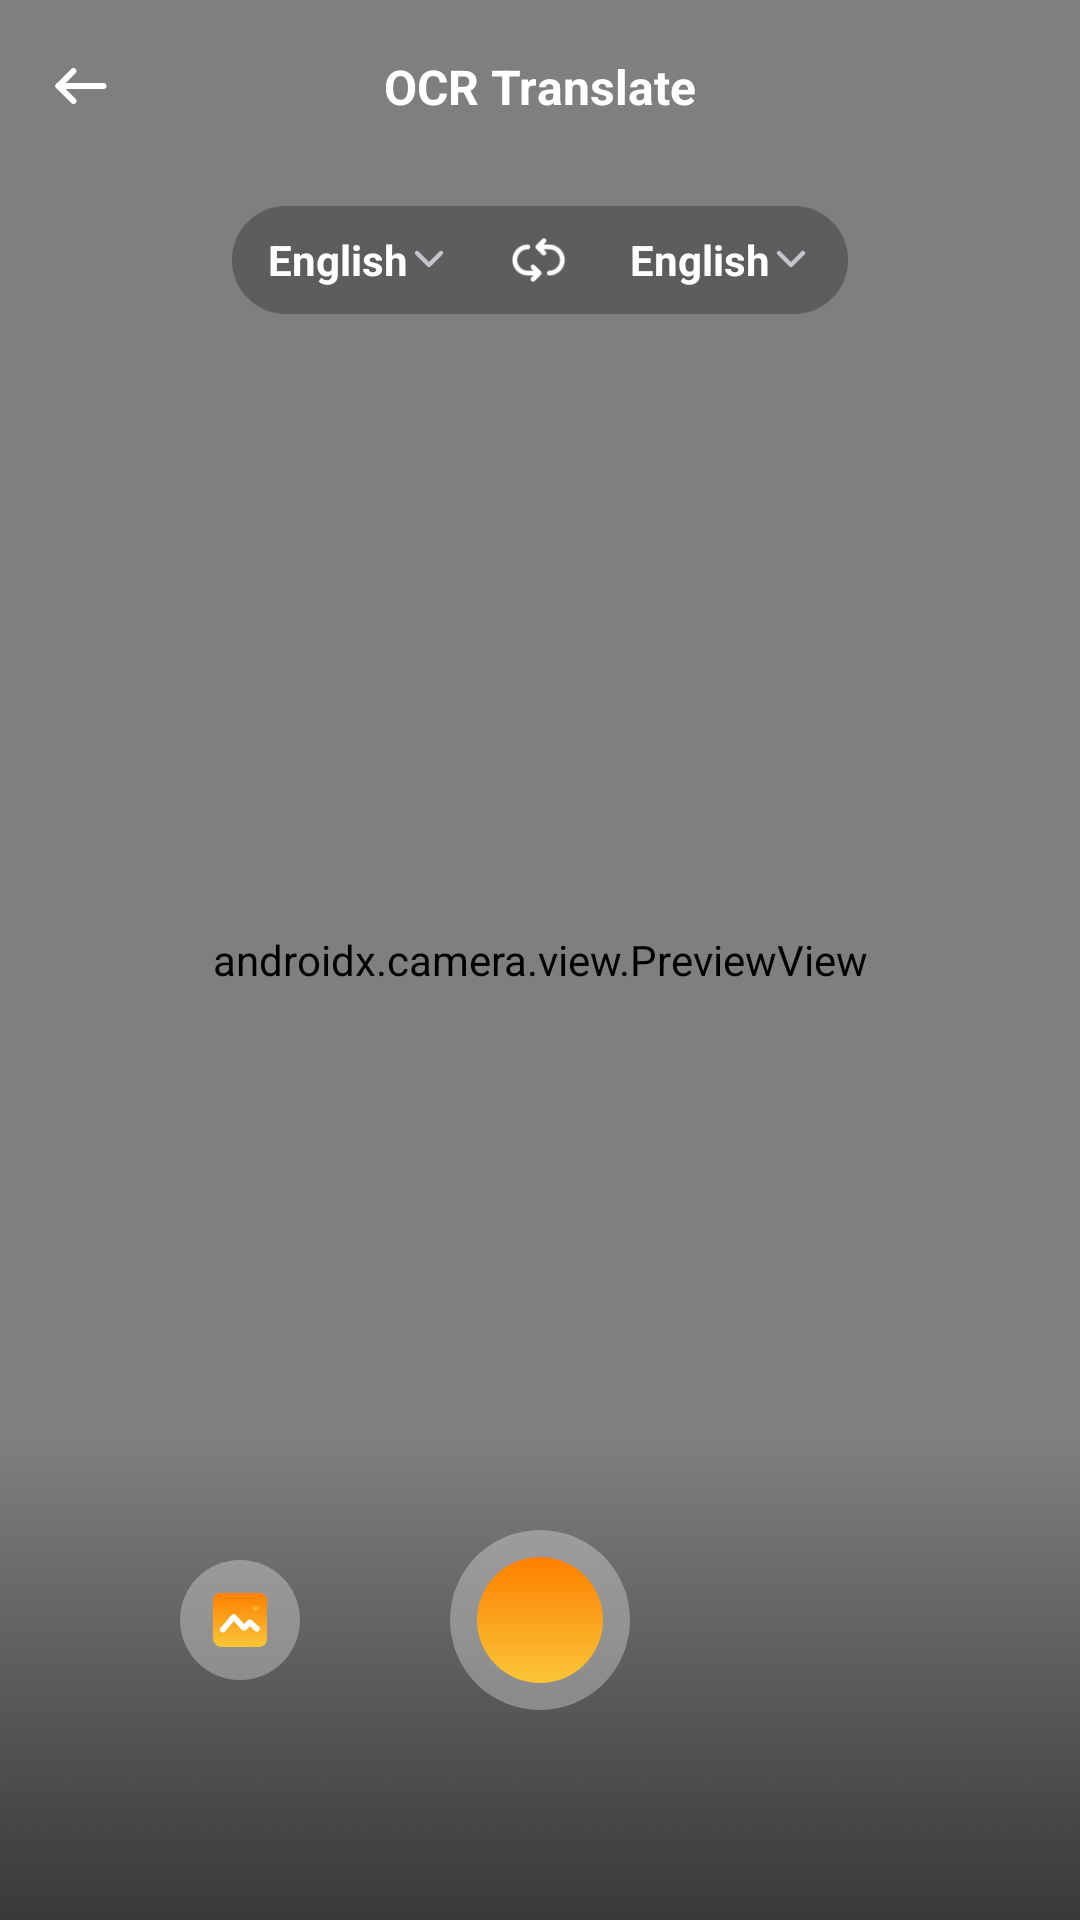

Screen size 1080 × 1920. Icon name, then its box in pixels as (x1, y1, x2, y2):
back: (55, 68, 107, 104)
change: (512, 238, 565, 282)
down: (415, 251, 443, 267), (777, 251, 805, 267)
photo: (213, 1593, 267, 1647)
